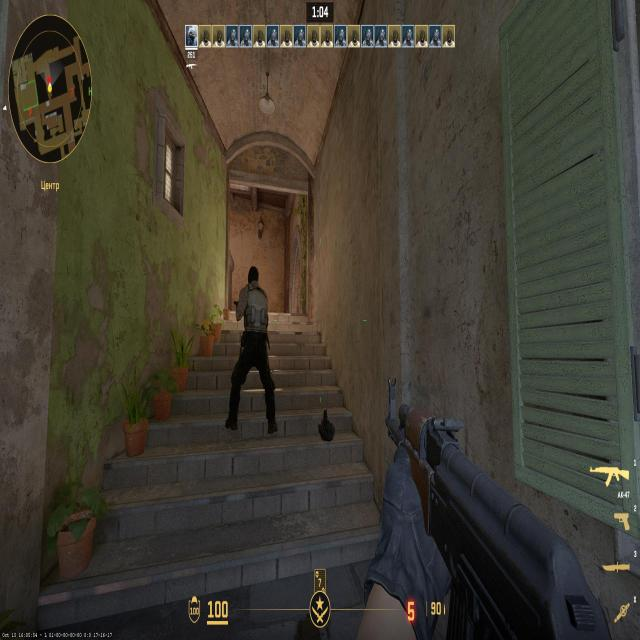T: (244, 270, 264, 389)
T_heat: (250, 274, 258, 290)
